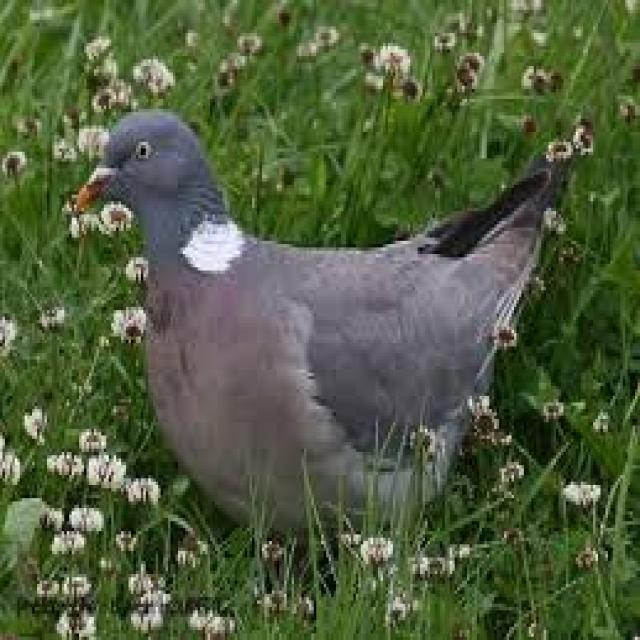pigeon: (73, 83, 567, 550)
